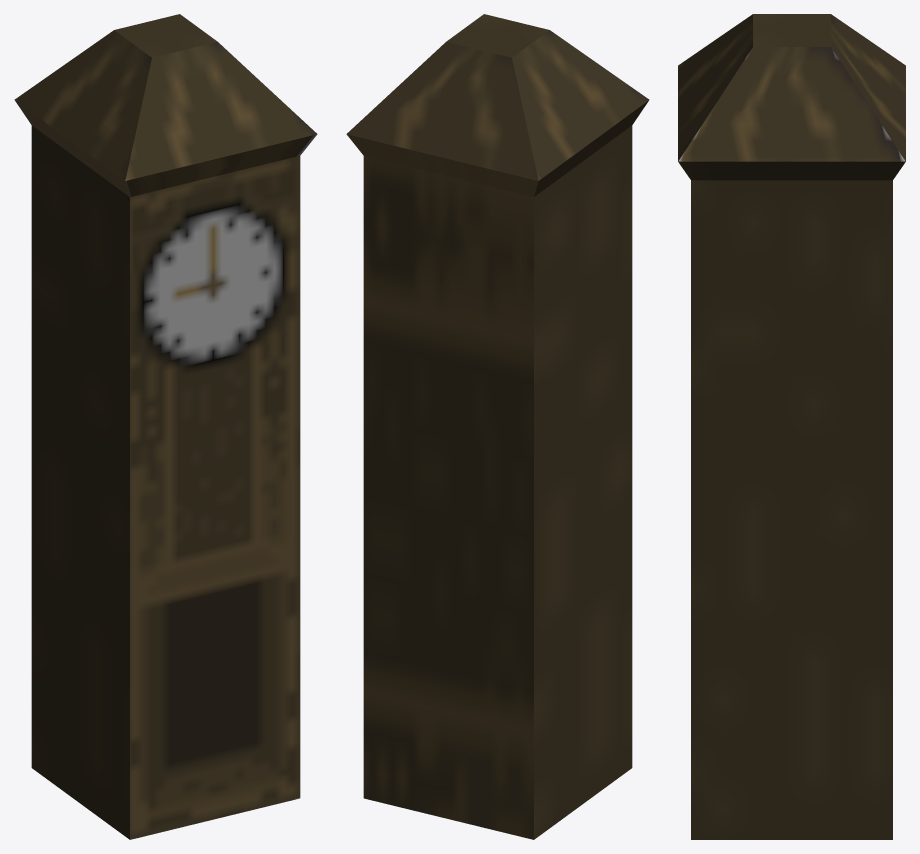
The model's file is Clock.fbx.
3 views of the same model, side by side, from view 1: azimuth 30°, elevation 25°; view 2: azimuth 150°, elevation 25°; view 3: azimuth 270°, elevation 25° (orthographic). The views are drawn at different scales.
Parts seen in each view (by area): view 1: Clock; view 2: Clock; view 3: Clock.
Boxes of the visible parts, x1,y1,x2,y2 form: Clock: (14,14,317,839); Clock: (346,14,649,839); Clock: (678,14,905,839).
Bounding box in the file's own units: 0.456 × 1.69 × 0.456.
